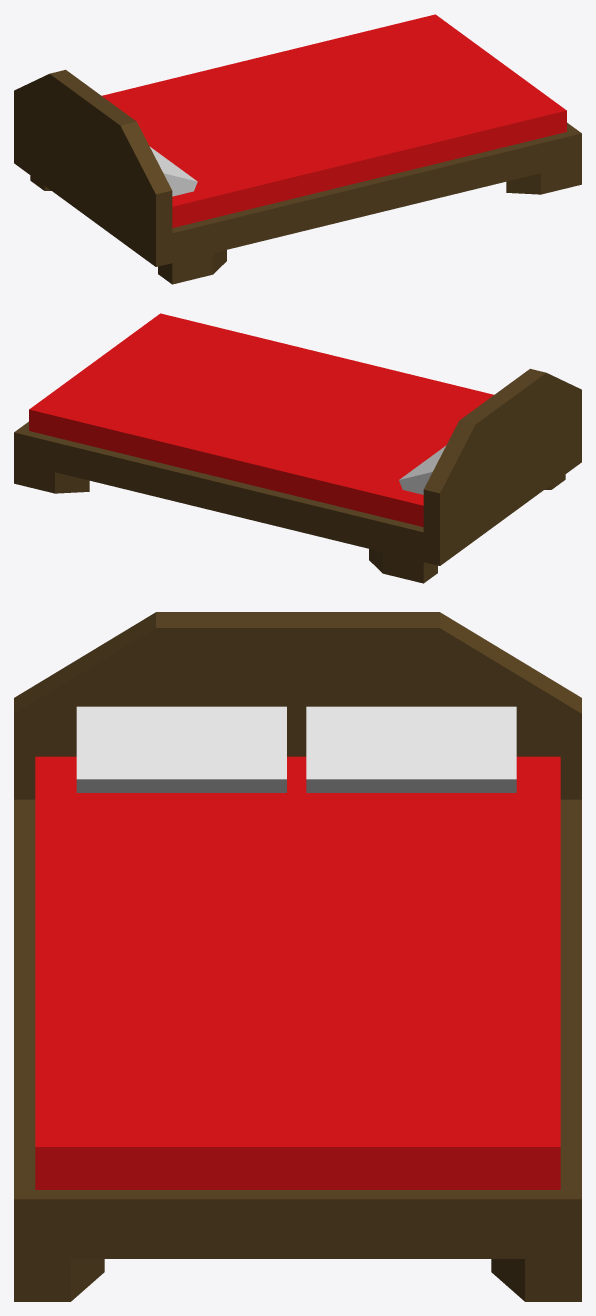
File: Bed.fbx
The picture shows the model from 3 angles, top to bottom: view 1: azimuth 30°, elevation 25°; view 2: azimuth 150°, elevation 25°; view 3: azimuth 270°, elevation 25°; orthographic projection. The views are drawn at different scales.
Visible parts, largest first — view 1: Cube; view 2: Cube; view 3: Cube.
Part boxes in pixels (<box>): Cube: <box>14,14,581,284</box>; Cube: <box>14,313,581,583</box>; Cube: <box>14,612,581,1301</box>.
Bounding box in the file's own units: 1040 × 319 × 600.
